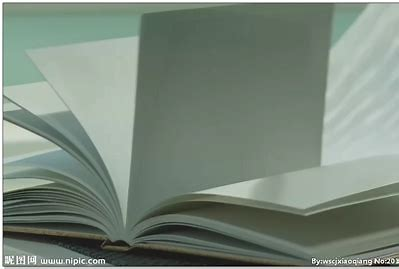book: (3, 3, 398, 264)
